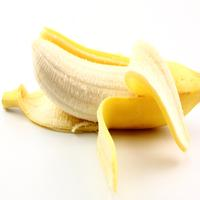banane: (19, 13, 200, 164)
